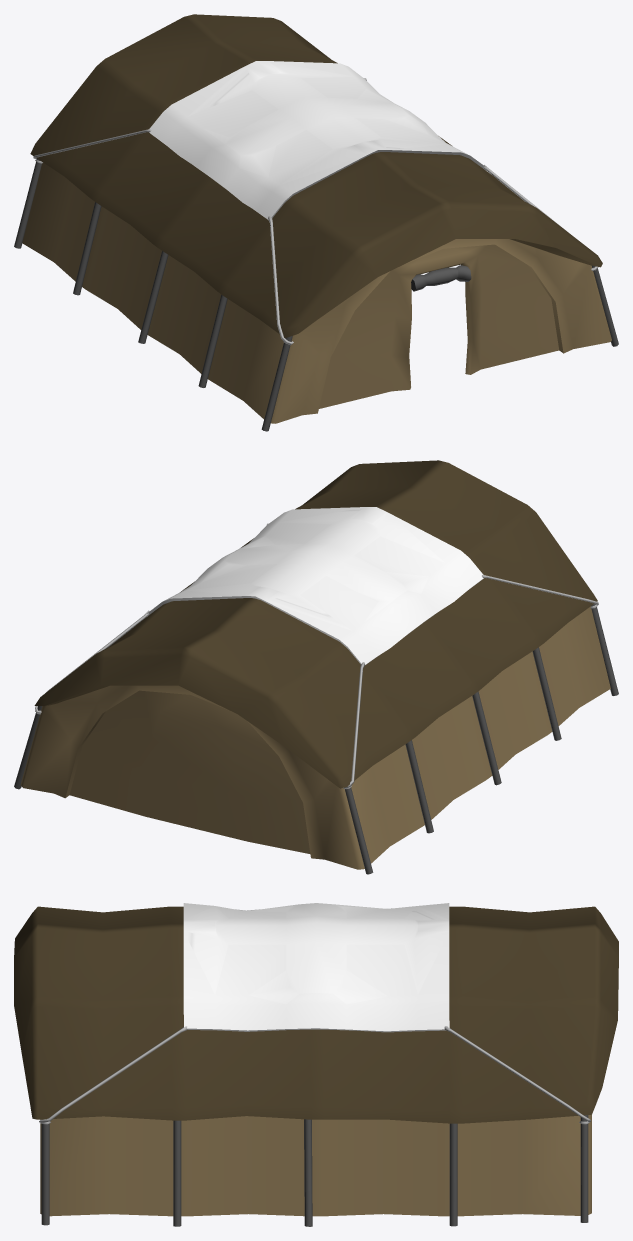
Rendered from tent_001.glb.
The picture shows the model from 3 angles, top to bottom: view 1: azimuth 30°, elevation 25°; view 2: azimuth 150°, elevation 25°; view 3: azimuth 270°, elevation 25°; orthographic projection. The views are drawn at different scales.
Visible parts, largest first — view 1: tent_001; view 2: tent_001; view 3: tent_001.
Boxes of the visible parts, x1,y1,x2,y2 form: tent_001: (14, 14, 618, 431); tent_001: (14, 460, 618, 874); tent_001: (14, 903, 618, 1226).
Bounding box in the file's own units: 6.98 × 3.54 × 9.25.
2 materials, 2 textured.
